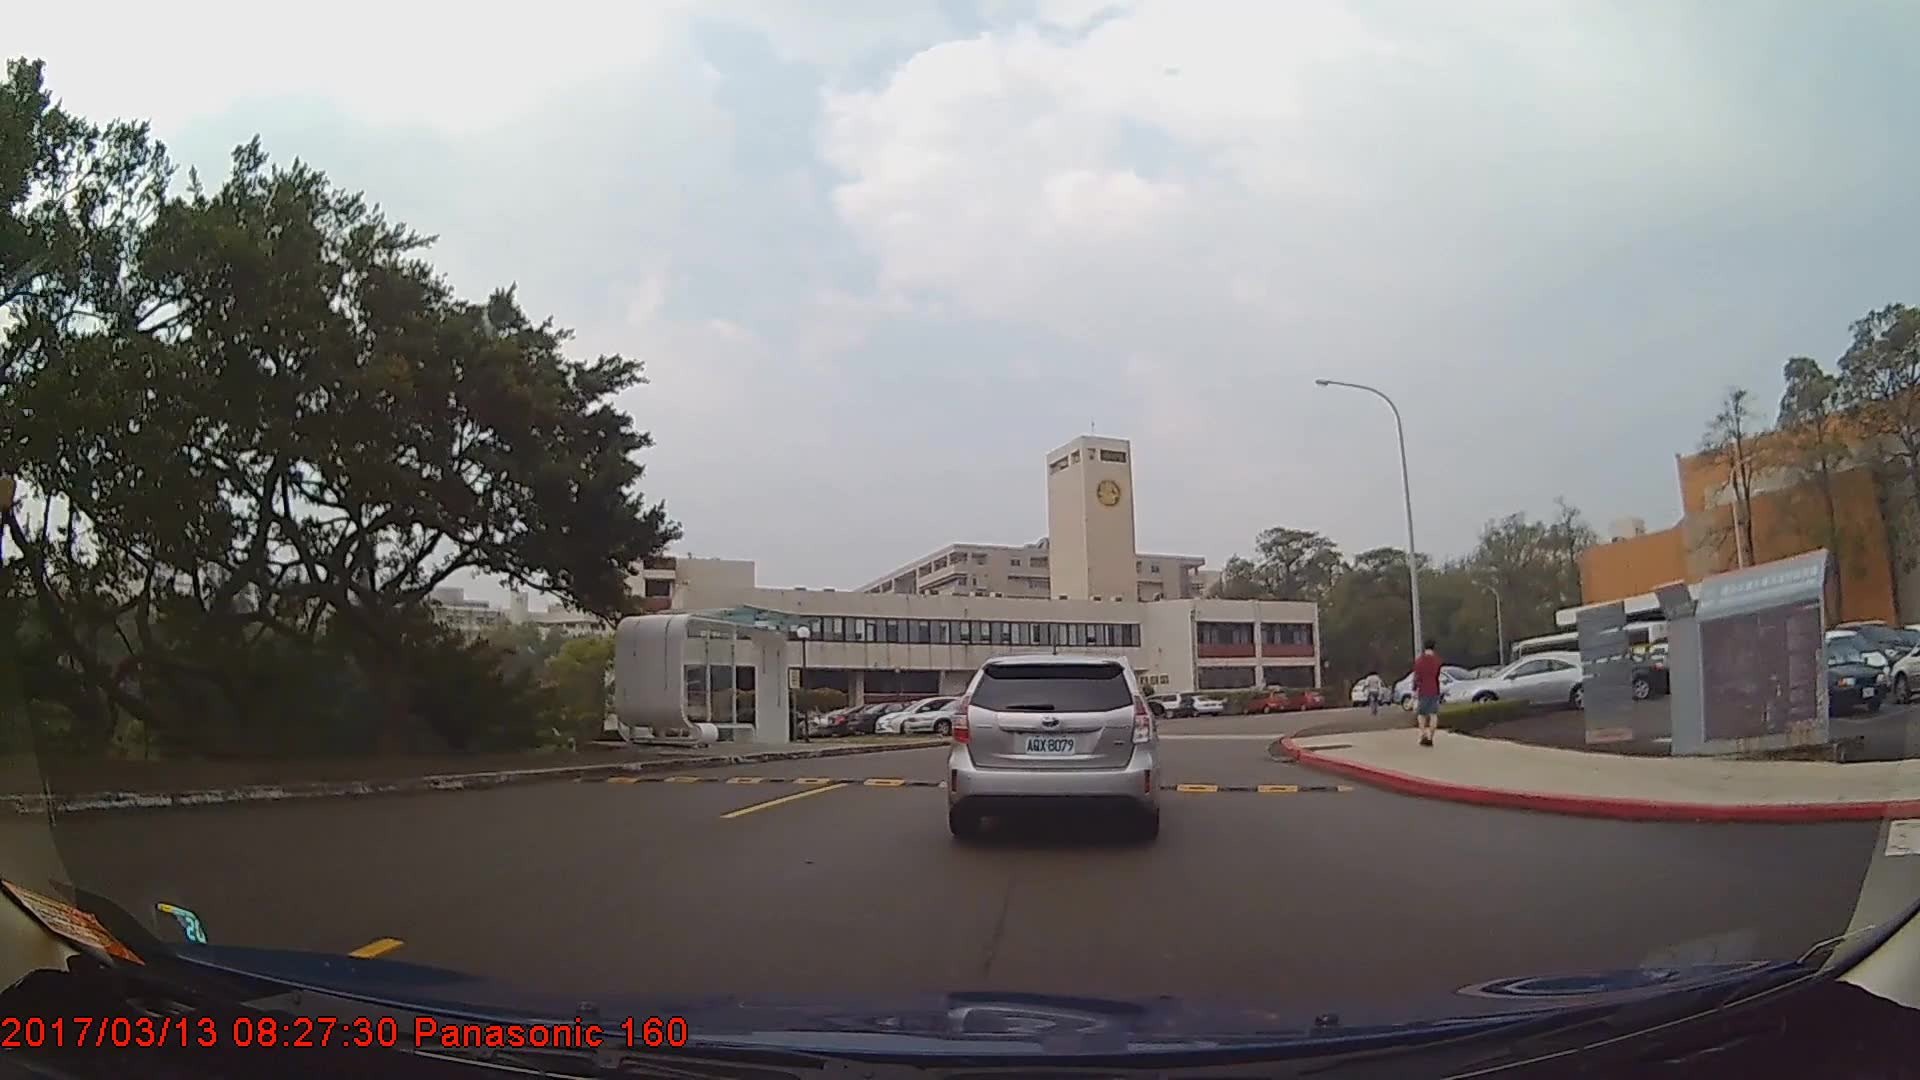pedestrian: (1413, 637, 1446, 748), (1364, 665, 1389, 715)
vehicle: (949, 652, 1156, 839), (1441, 652, 1615, 711), (1793, 639, 1884, 712), (1143, 691, 1199, 717)
